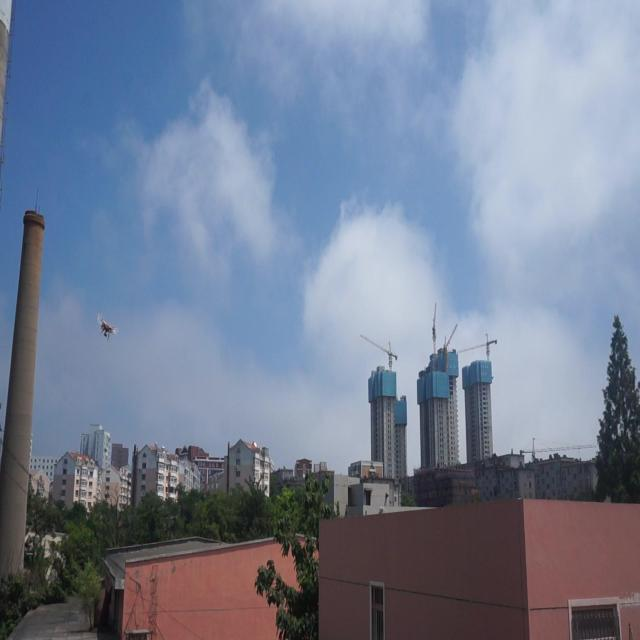drone: (96, 313, 119, 342)
